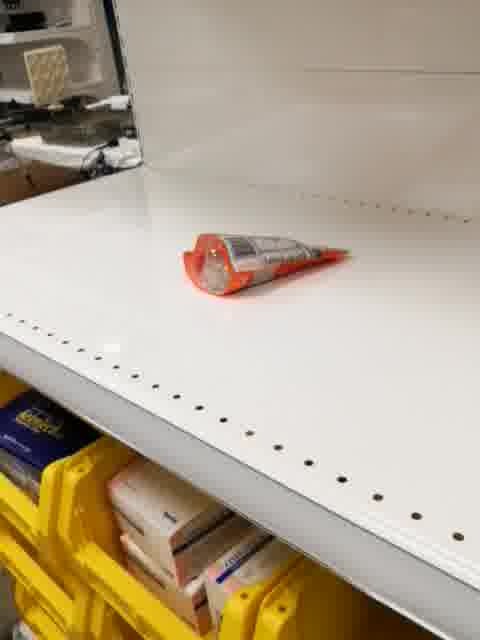whitechia: (179, 231, 353, 297)
